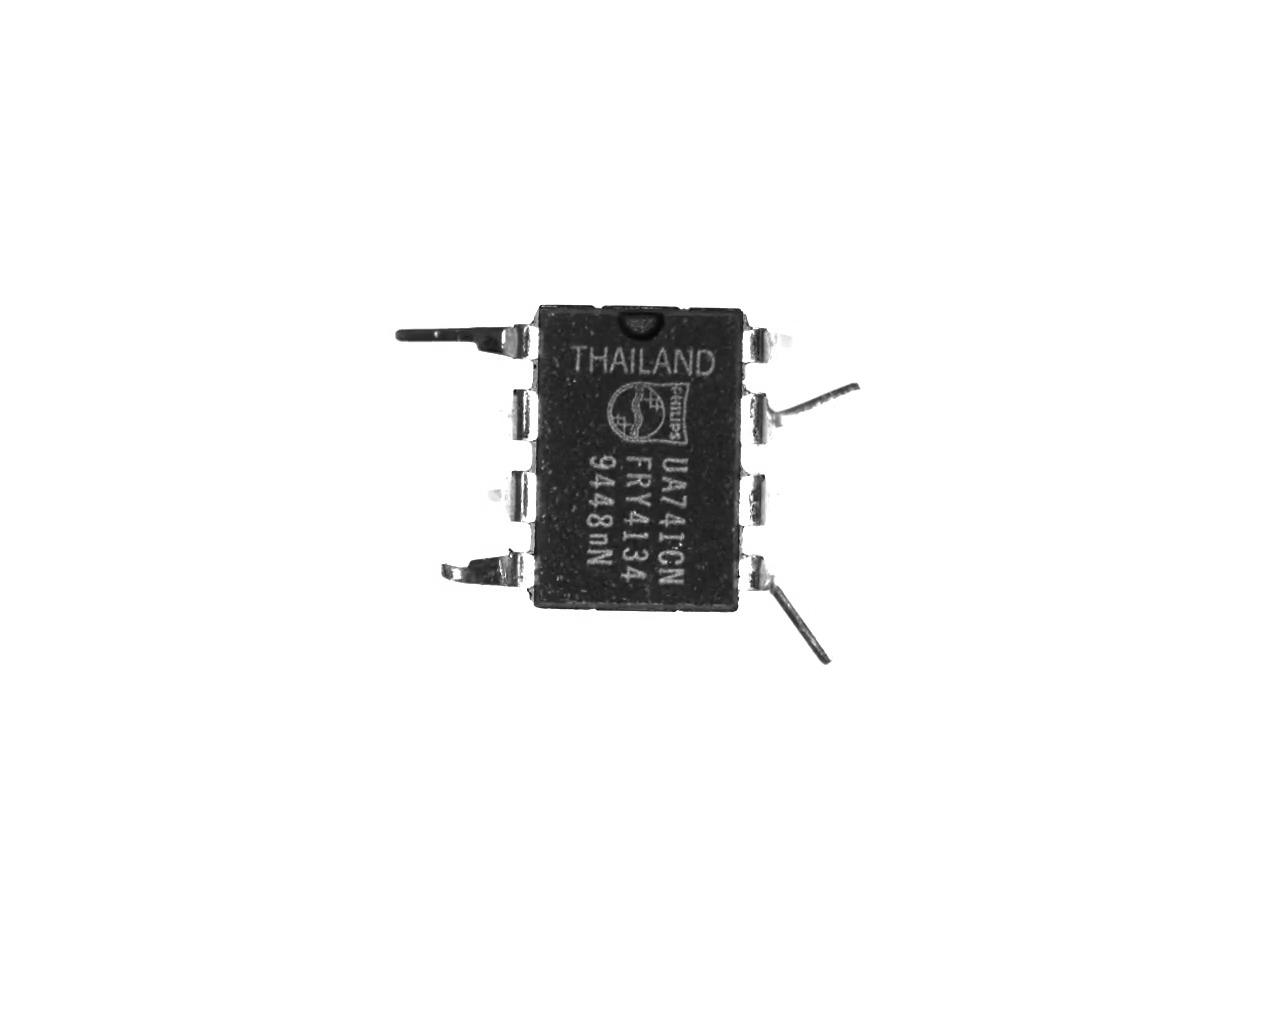Leg: (735, 548, 835, 667), (746, 376, 866, 446), (389, 322, 541, 363), (427, 544, 537, 595), (479, 466, 537, 527), (490, 386, 544, 448), (731, 322, 800, 366), (730, 470, 770, 529)
